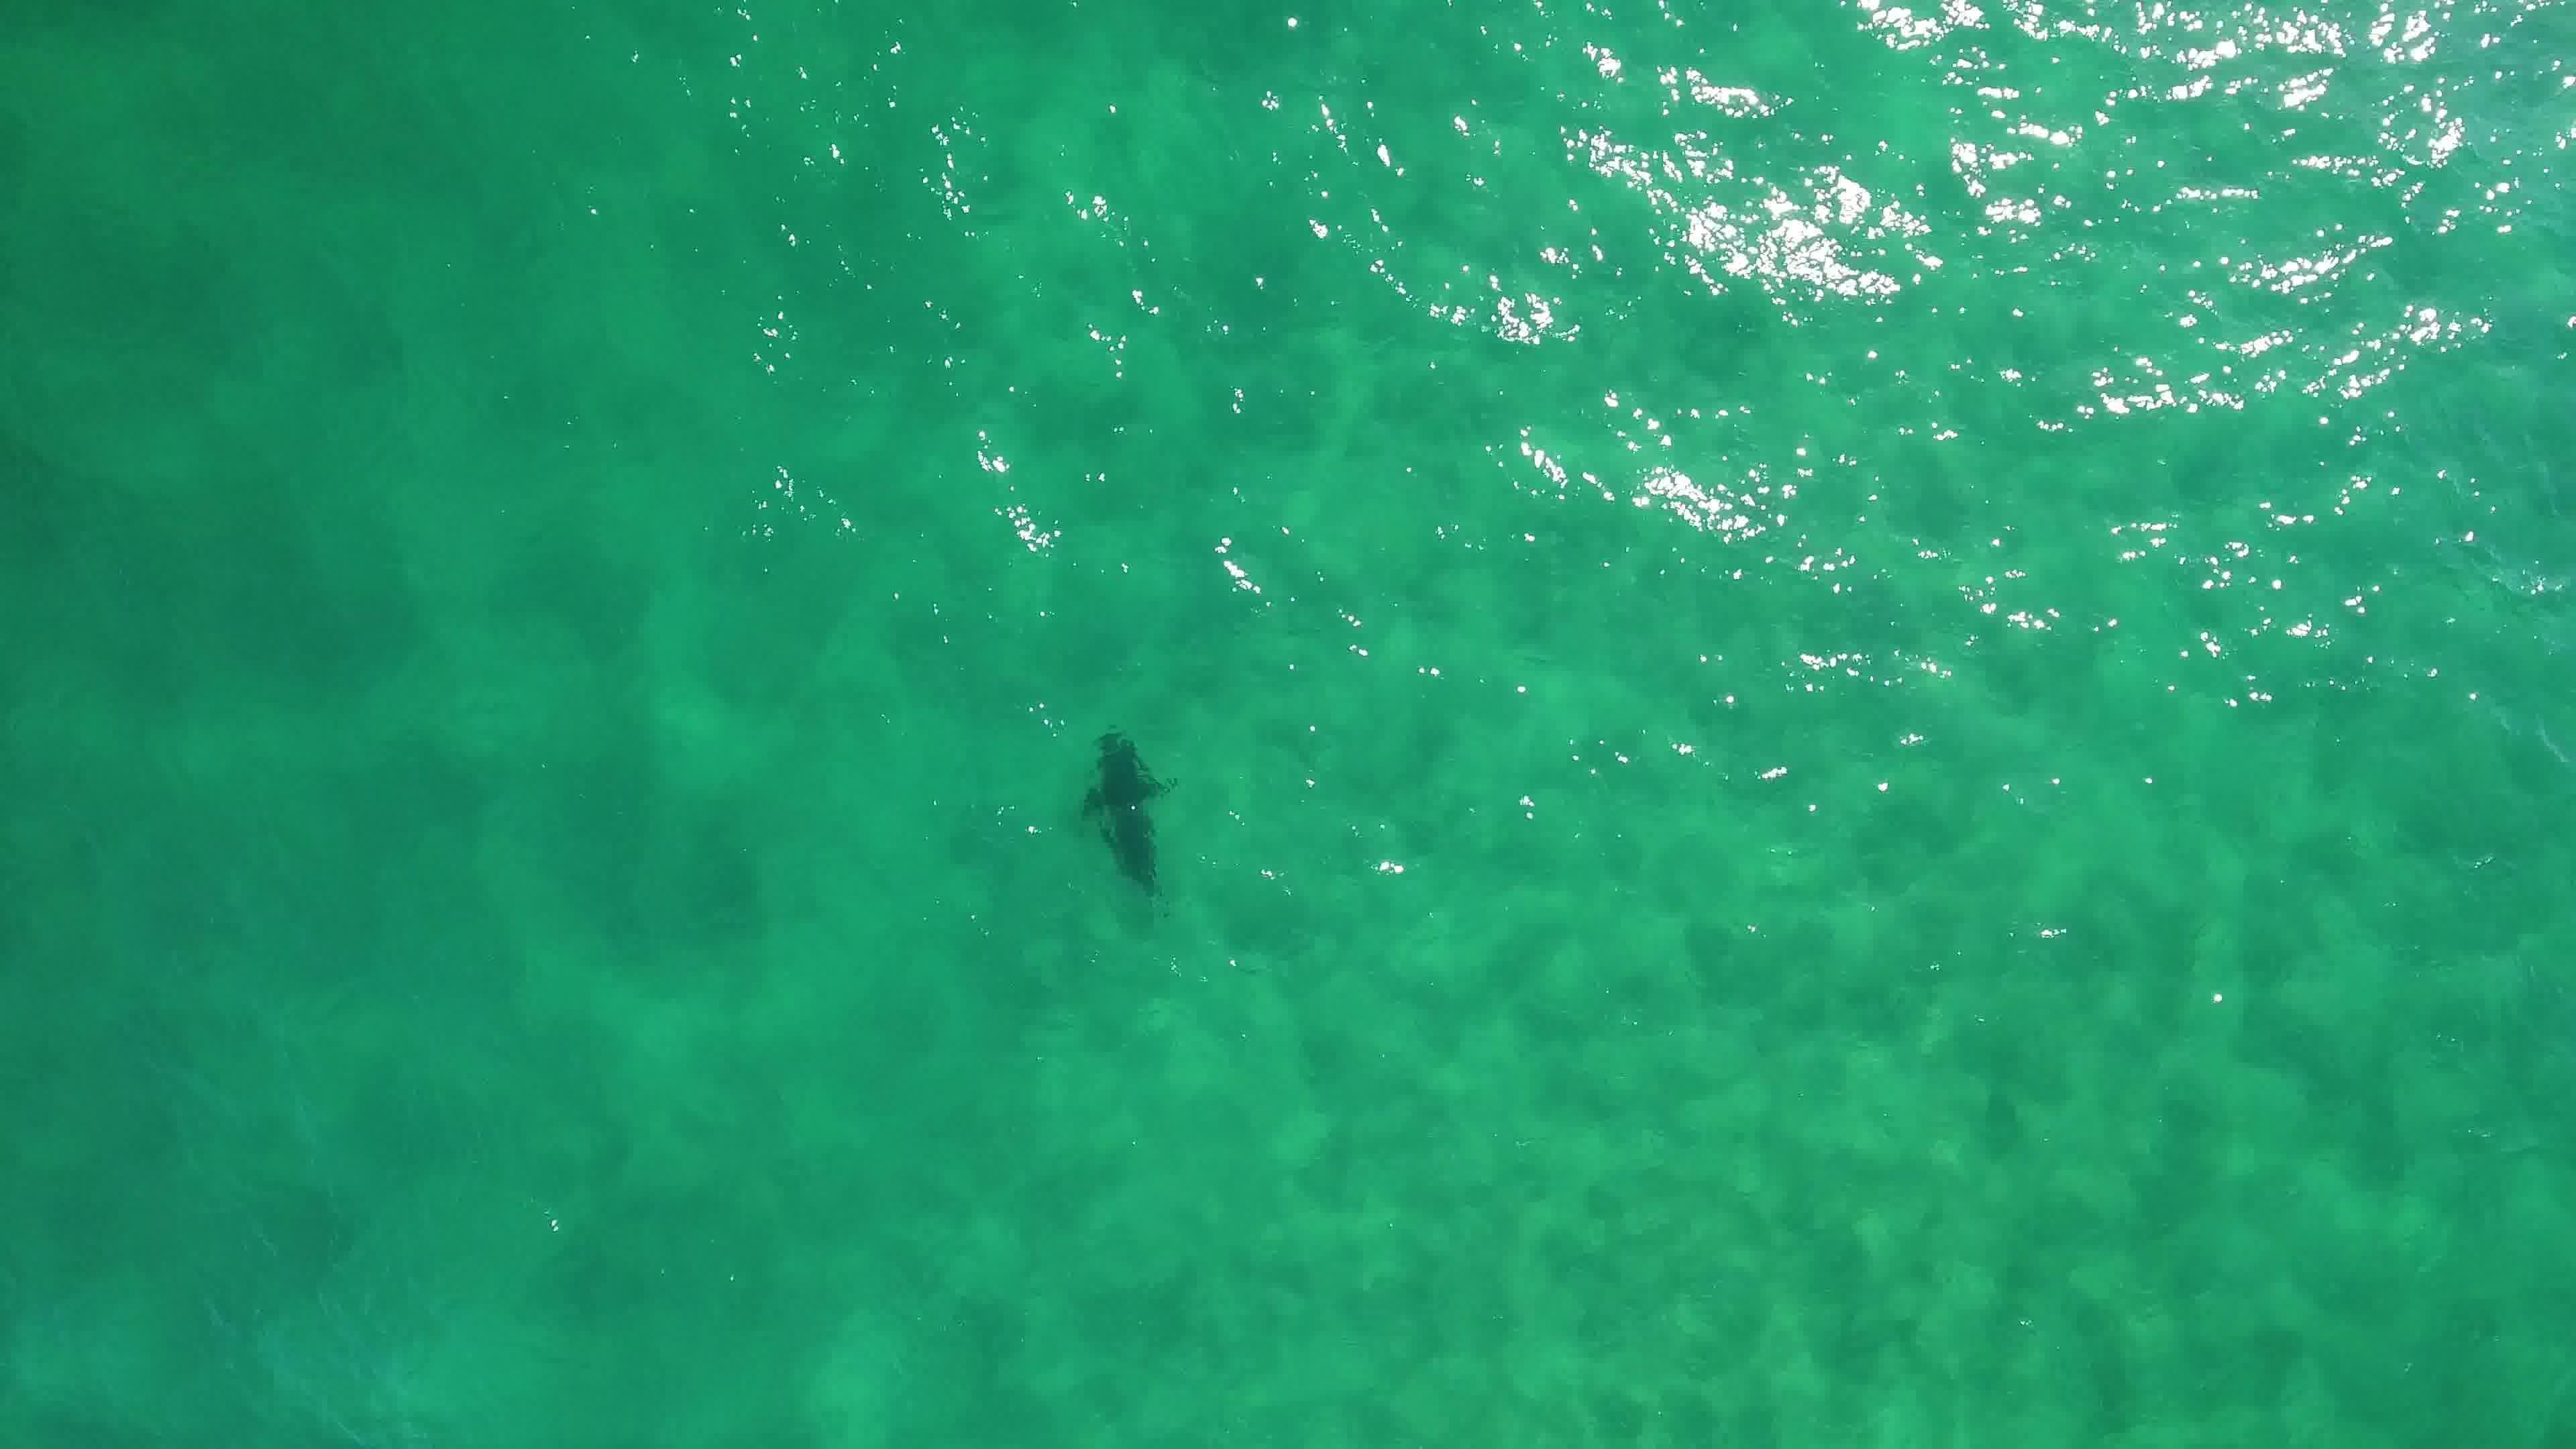shark: (1067, 725, 1180, 906)
